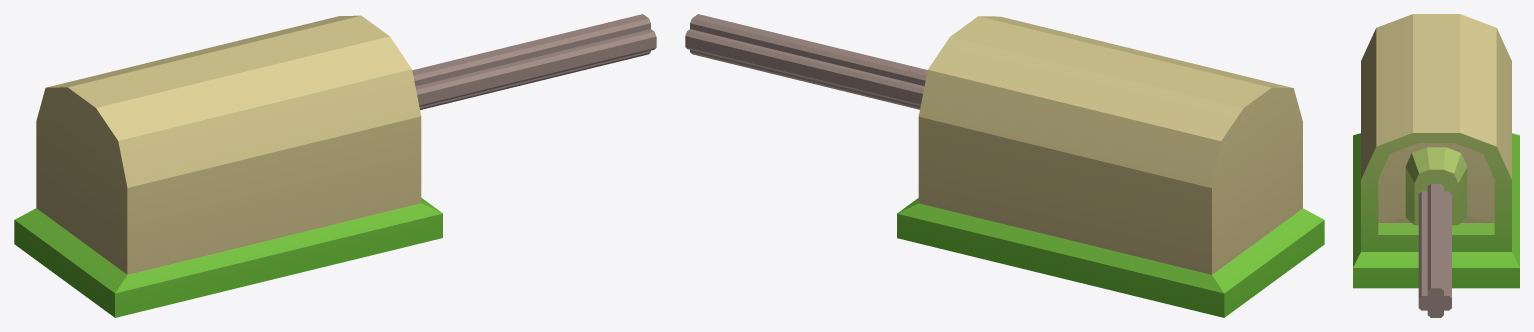
Rendered from o_linear.fbx.
3 renders of one model, left to right at view 1: azimuth 30°, elevation 25°; view 2: azimuth 150°, elevation 25°; view 3: azimuth 270°, elevation 25°, orthographic. The views are drawn at different scales.
Parts seen in each view (by area): view 1: body, rod; view 2: body, rod; view 3: body, rod.
Part boxes in pixels (x1,y1,x2,y2): body: (14, 15, 442, 317); rod: (412, 14, 656, 109); body: (897, 16, 1324, 317); rod: (685, 14, 927, 109); body: (1353, 14, 1519, 288); rod: (1418, 184, 1451, 317).
Size of the model in its own units: 332 by 97.98 by 99.72.
